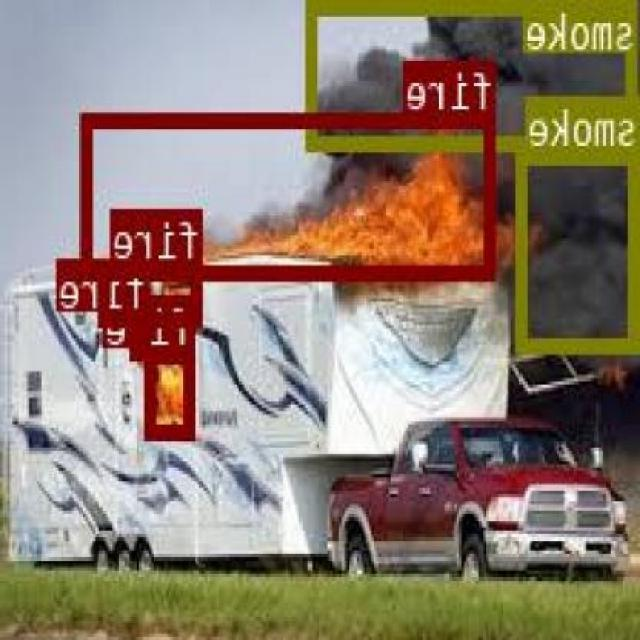Fire: (84, 111, 498, 276), (102, 260, 204, 322), (148, 346, 196, 434), (133, 310, 152, 356)
Smoke: (311, 0, 640, 149), (520, 146, 640, 348)
